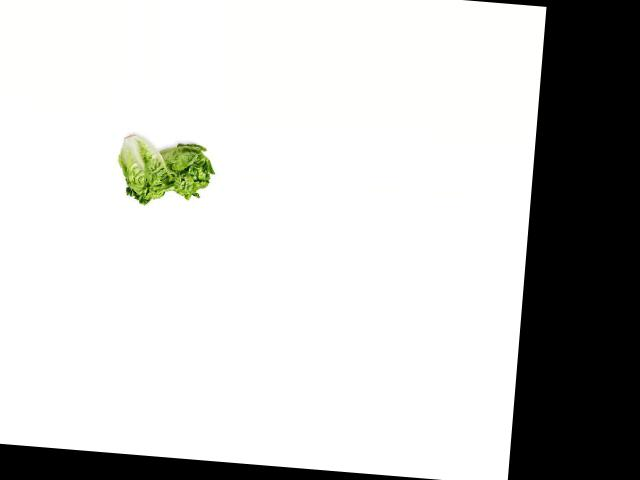lettuce: (151, 133, 217, 202)
